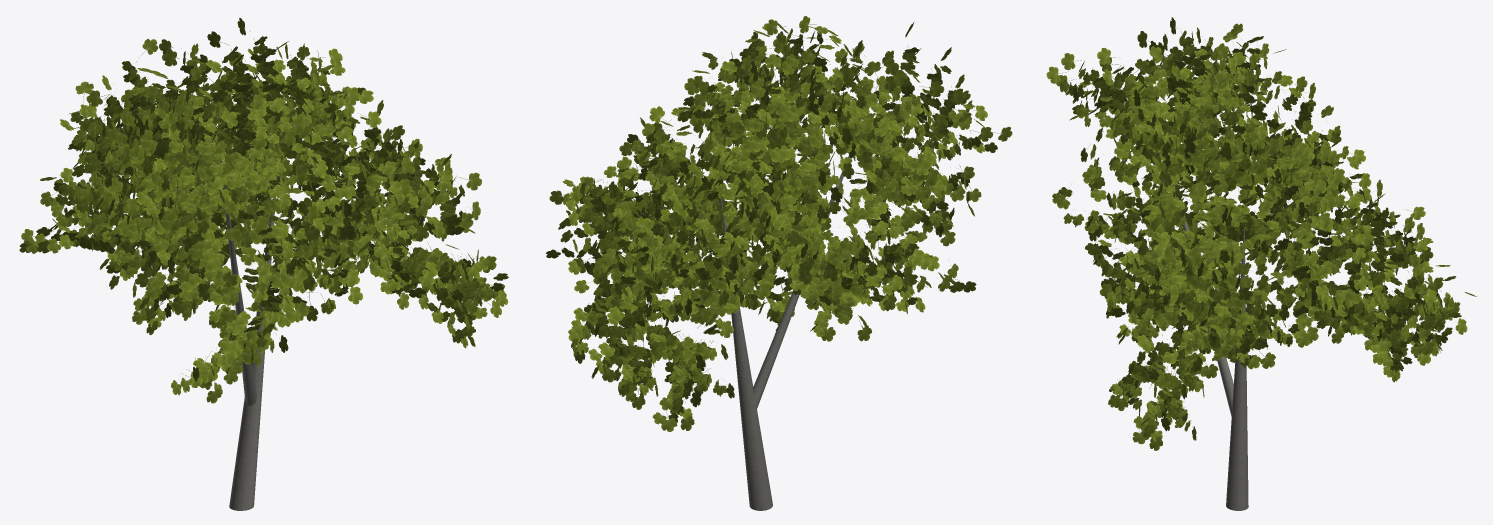
The model's file is tree_eu03_11_1.obj.
3 views of the same model, side by side, from view 1: azimuth 30°, elevation 25°; view 2: azimuth 150°, elevation 25°; view 3: azimuth 270°, elevation 25° (orthographic). The views are drawn at different scales.
Visible parts, largest first — view 1: EU03_i11_1 Obj_foliage, Obj_branches EU03_i11_1; view 2: EU03_i11_1 Obj_foliage, Obj_branches EU03_i11_1; view 3: EU03_i11_1 Obj_foliage, Obj_branches EU03_i11_1.
Boxes of the visible parts, left/top/right/bottom form: EU03_i11_1 Obj_foliage: left=19, top=18, right=508, bottom=403; Obj_branches EU03_i11_1: left=217, top=133, right=277, bottom=510; EU03_i11_1 Obj_foliage: left=546, top=16, right=1012, bottom=431; Obj_branches EU03_i11_1: left=718, top=87, right=877, bottom=510; EU03_i11_1 Obj_foliage: left=1046, top=17, right=1476, bottom=450; Obj_branches EU03_i11_1: left=1147, top=86, right=1248, bottom=510.
Size of the model in its own units: 2324 by 2606 by 2239.
2 materials, 2 textured.
